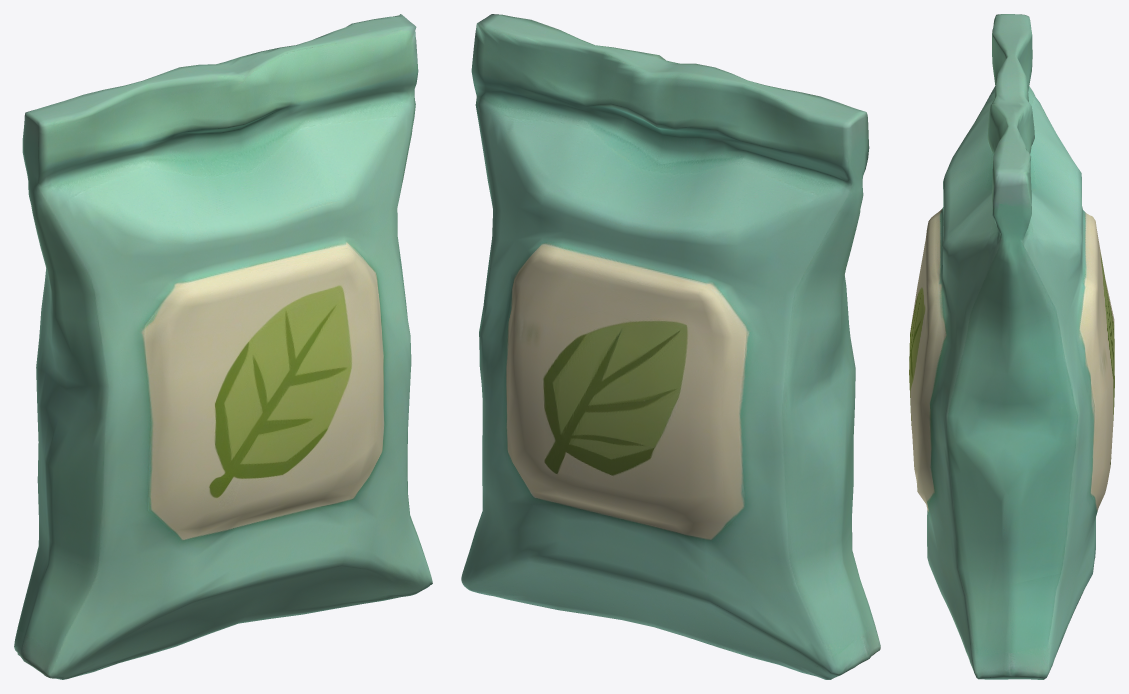
File: item_fertilizerbag.glb
3 renders of one model, left to right at view 1: azimuth 30°, elevation 25°; view 2: azimuth 150°, elevation 25°; view 3: azimuth 270°, elevation 25°, orthographic. The views are drawn at different scales.
Bounding box in the file's own units: 1.48 × 2 × 0.7286.
Materials: 1 (1 with a texture image).
